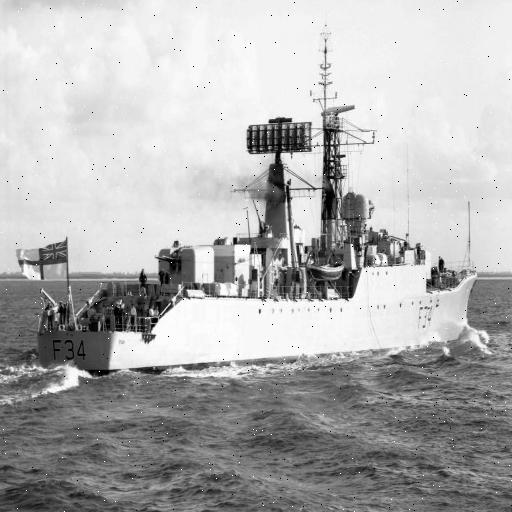Fragata: (26, 26, 480, 380)
